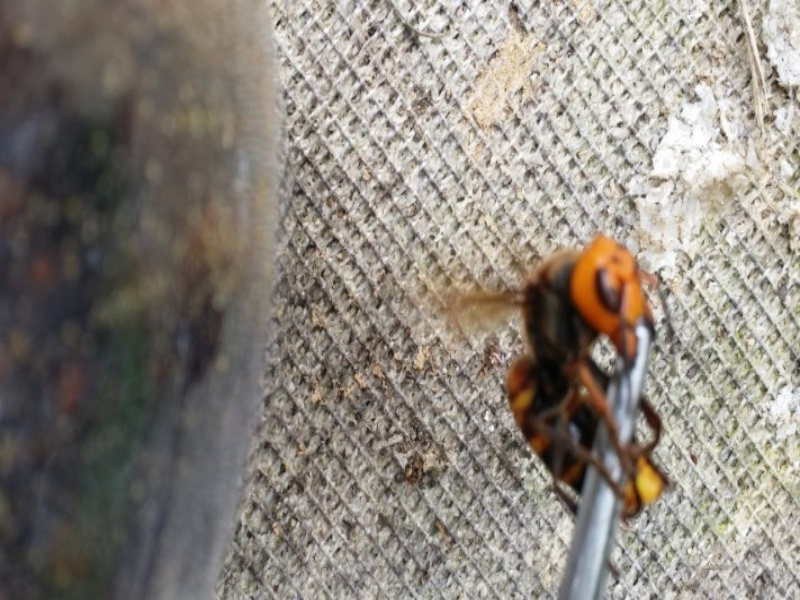asian_giant_hornet: (500, 234, 675, 532)
